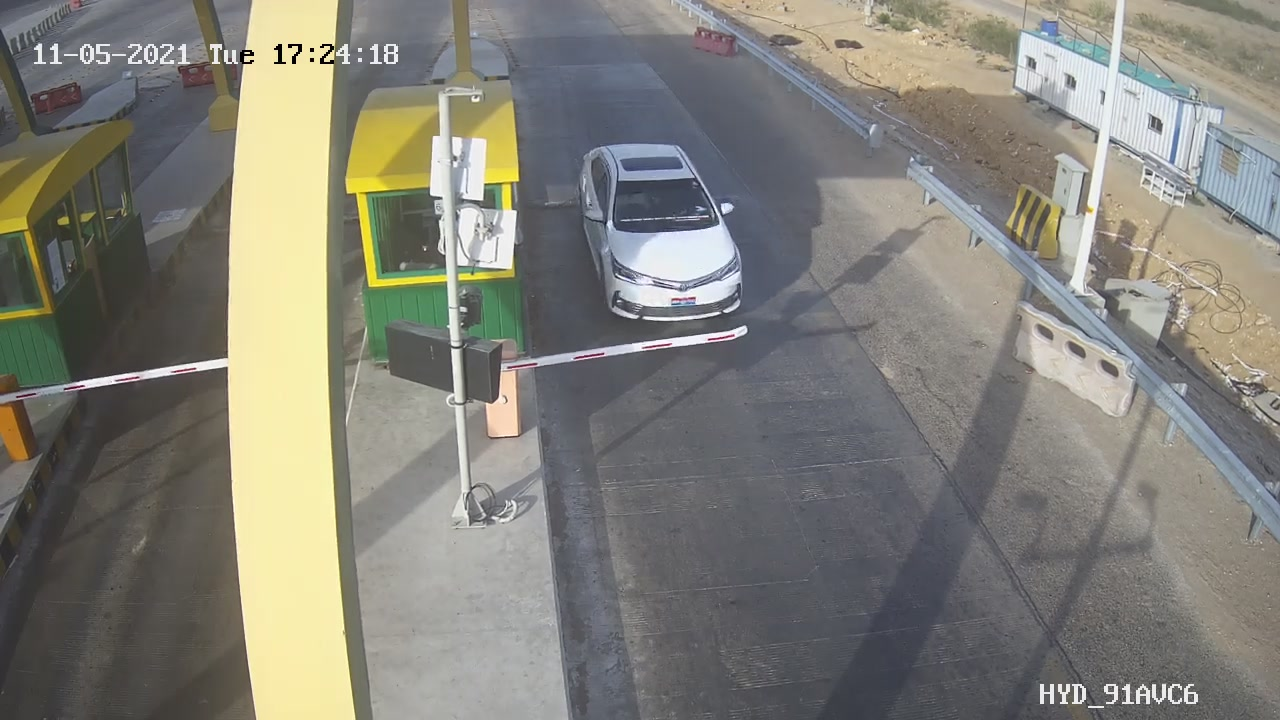F1: (561, 129, 764, 343)
